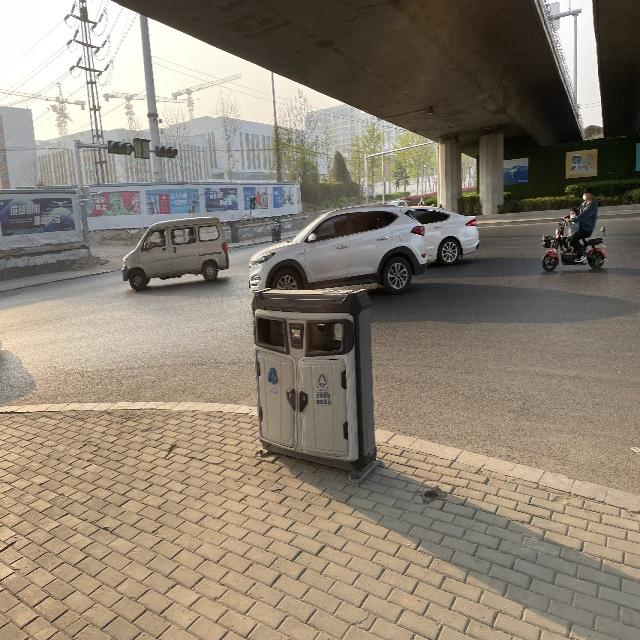garbage_bin: (252, 287, 374, 472)
